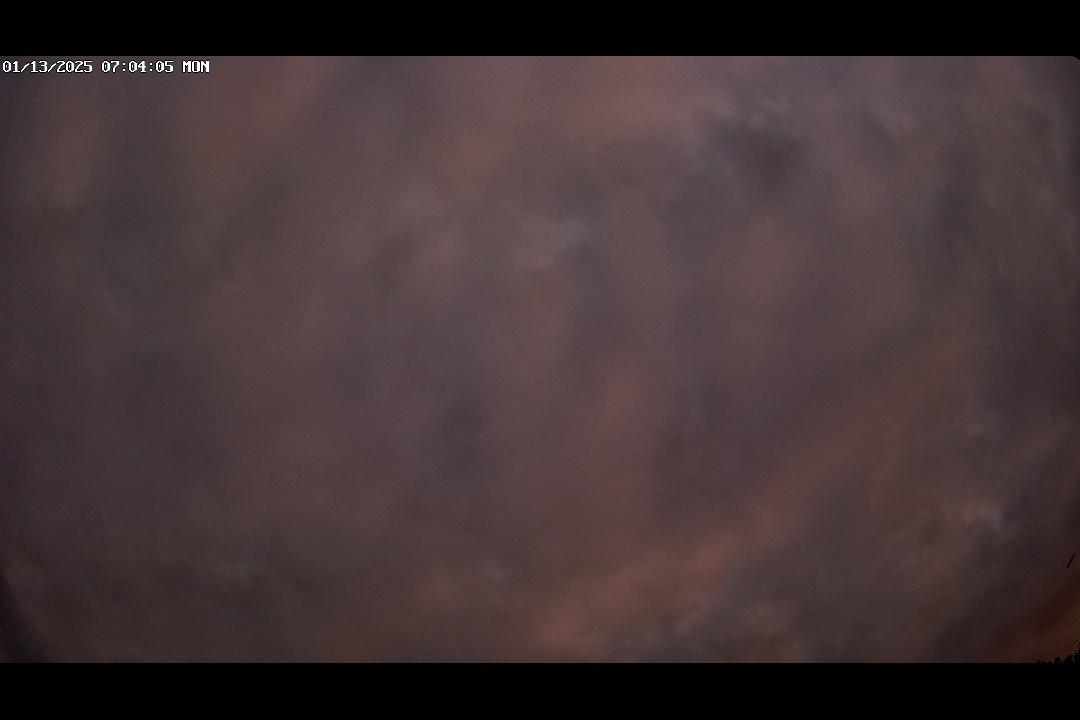WildLife: (1059, 544, 1079, 575)
